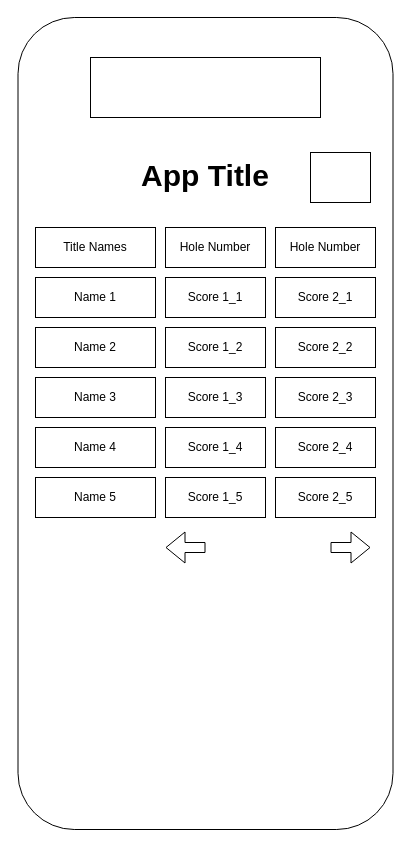
Some shapes in this 410 by 847 pixel diagram are drawn without their labels. Each missing label, with the box of its shape:
Company Logo: (90, 56, 320, 118)
lang: (310, 152, 370, 202)
